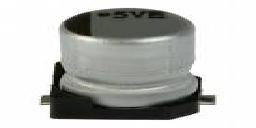Electrolytic Capacitor: (37, 3, 222, 128)
